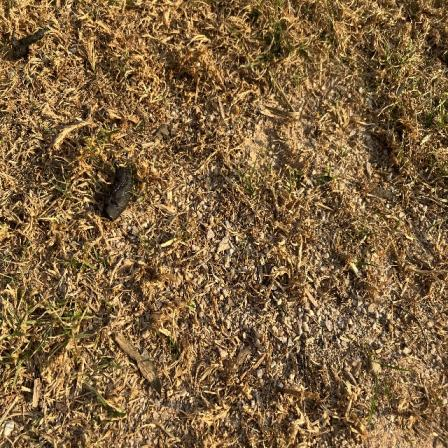dog-poop: (93, 157, 147, 230), (11, 24, 49, 70)
